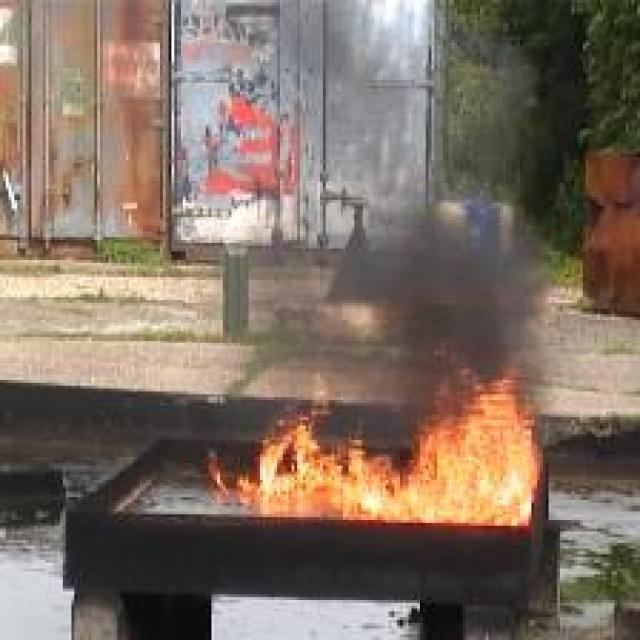Fire: (209, 344, 542, 527)
